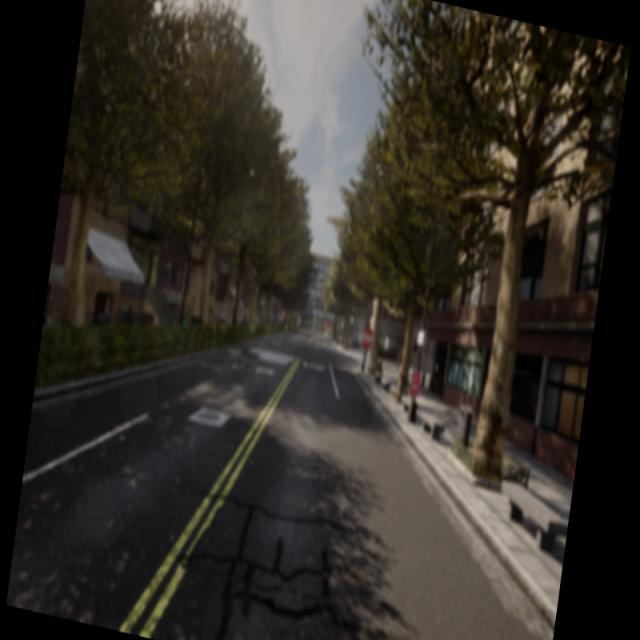stop sign: (357, 321, 376, 372), (358, 324, 376, 352)
